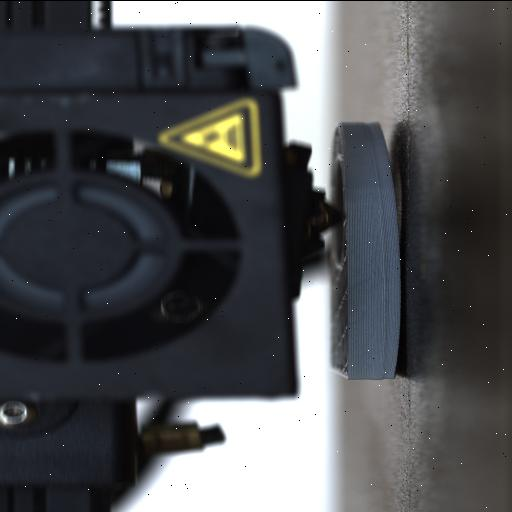warp: (365, 118, 405, 196), (380, 318, 406, 384)
